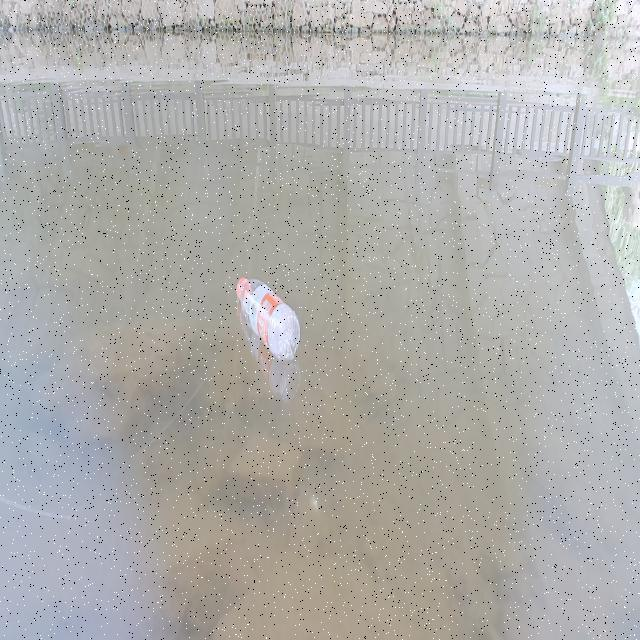Bottle: (235, 274, 300, 362)
